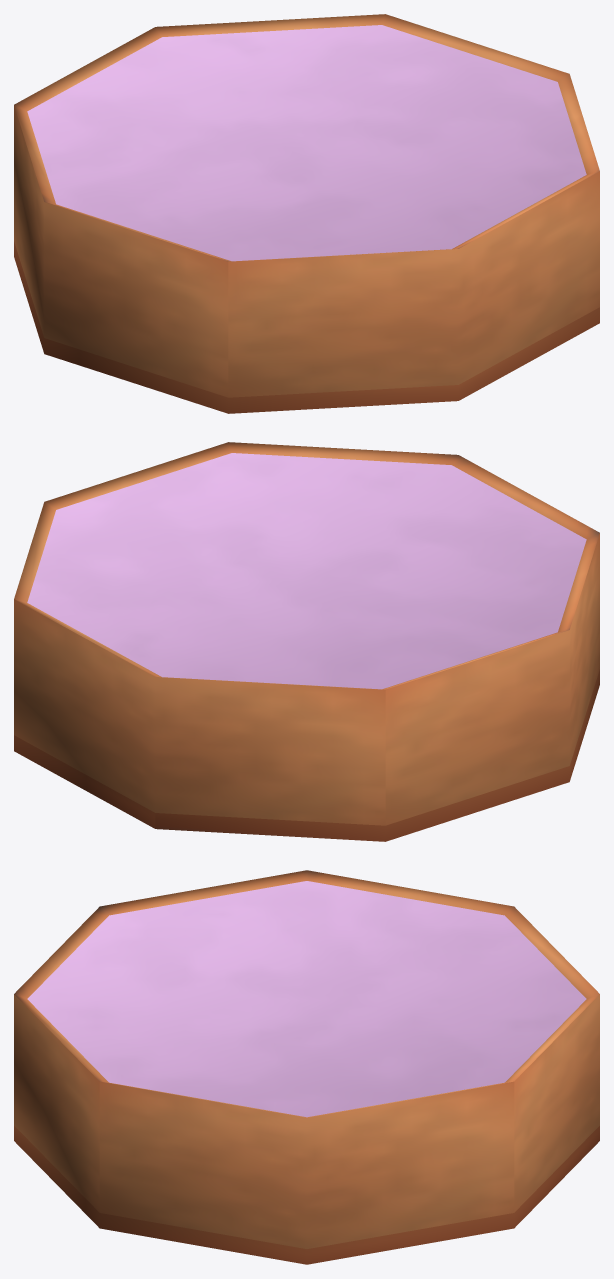
The model's file is Cheesecake_D_2.FBX.
The picture shows the model from 3 angles, top to bottom: view 1: azimuth 30°, elevation 25°; view 2: azimuth 150°, elevation 25°; view 3: azimuth 270°, elevation 25°; orthographic projection. The views are drawn at different scales.
Parts seen in each view (by area): view 1: Cheesecake001; view 2: Cheesecake001; view 3: Cheesecake001.
Boxes of the visible parts, left/top/right/bottom form: Cheesecake001: left=14, top=14, right=599, bottom=413; Cheesecake001: left=14, top=442, right=599, bottom=841; Cheesecake001: left=14, top=870, right=599, bottom=1264.
Bounding box in the file's own units: 85.22 × 23.58 × 85.22.
